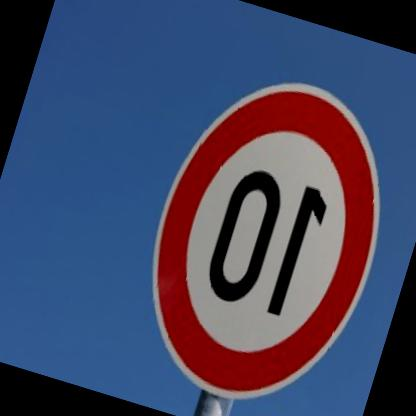speedlimit: (116, 51, 415, 416)
